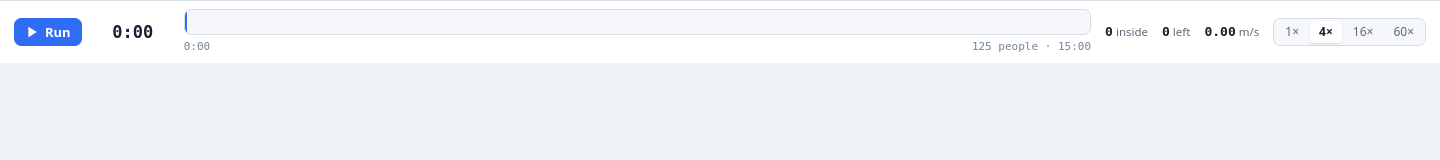
Test case: starting and stopping a run › offers pause and stop only once there is a run to pause or stop
Click the button "Run" at (48, 32), box x1=14 y1=18 x2=82 y2=46
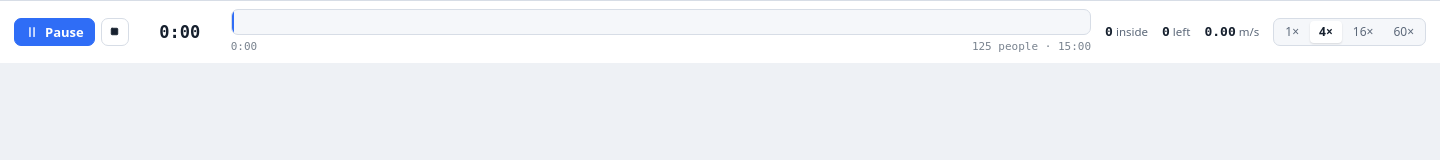
Now the button "Pause" is shown, box x1=14 y1=18 x2=95 y2=46
Click the button named "Stop" at (115, 32), box x1=101 y1=18 x2=129 y2=46
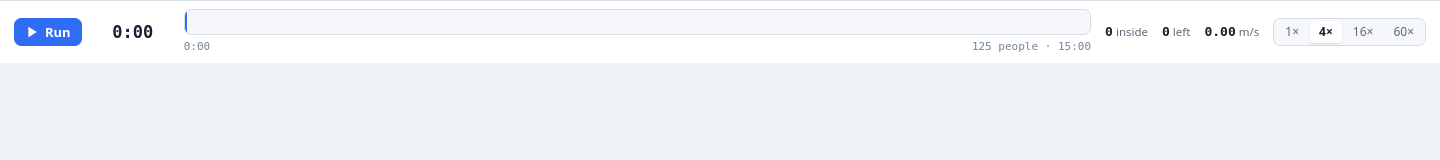
Now the button "Stop" is gone
Now the button "Run" is shown, box x1=14 y1=18 x2=82 y2=46
